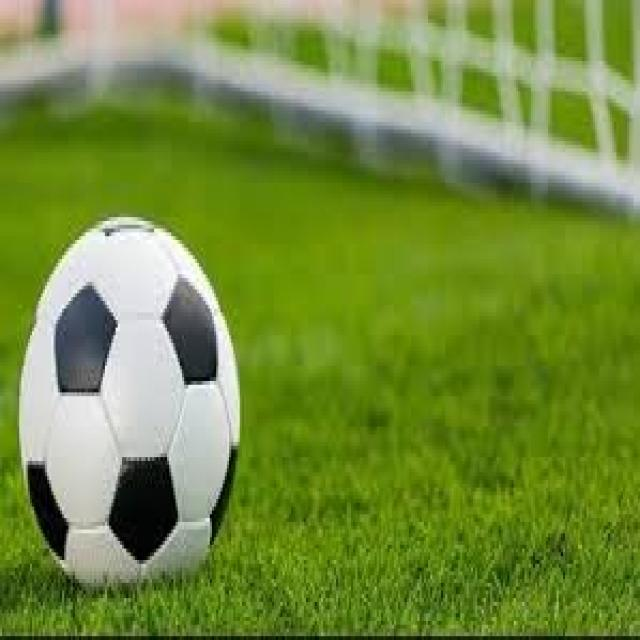ball: (19, 215, 242, 595)
